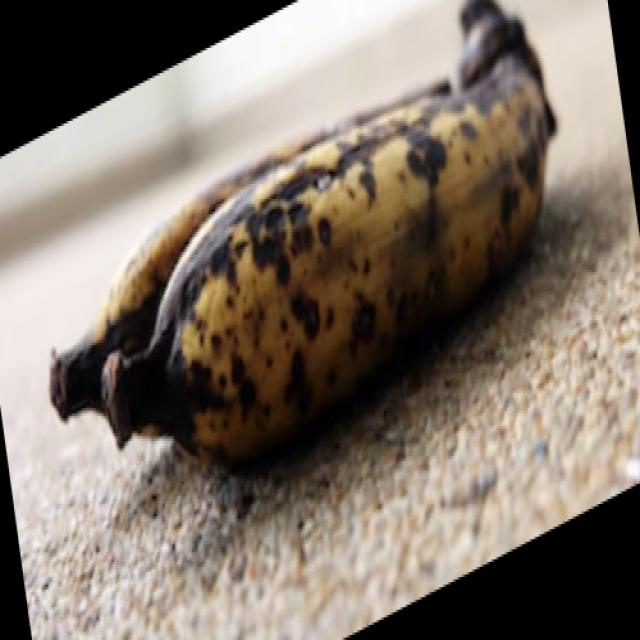Rotten: (28, 0, 566, 470)
